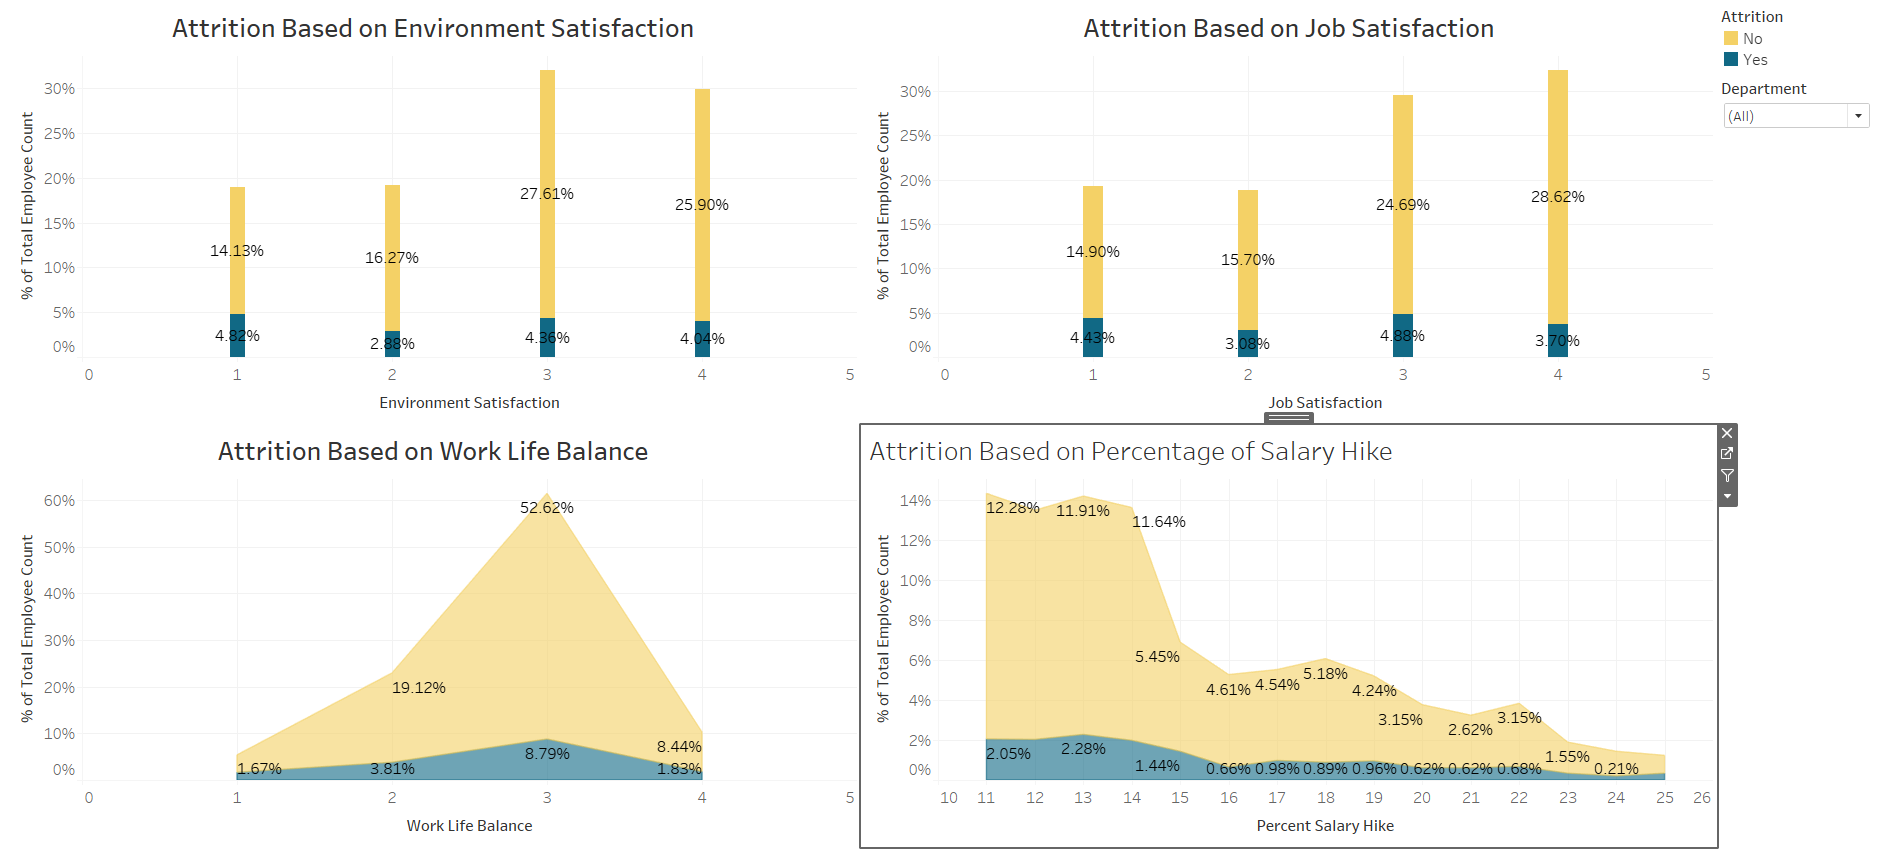

What the dashboard file says about the page in this screenshot:
{"tool":"tableau","page":{"name":"Dashboard 5","canvas":[1000,1000],"units":"permille","ordinal":4},"visuals":[{"type":"worksheet","title":"Sheet 27","mark":"Bar","rows":["EmployeeCount"],"cols":["EnvironmentSatisfaction"],"box":[4.8,9.3,446.9,490.7]},{"type":"worksheet","title":"Sheet 28","mark":"Bar","rows":["EmployeeCount"],"cols":["JobSatisfaction"],"box":[451.7,9.3,446.9,490.7]},{"type":"legend","title":"Sheet 27","param":"[federated.0j0eqzi1m7ro331365rb91to361o].[none:Attrition:nk]","box":[898.6,9.3,96.6,83.6]},{"type":"filter","title":"Sheet 29","param":"[federated.0j0eqzi1m7ro331365rb91to361o].[none:Department:nk]","box":[898.6,92.9,96.6,70.9]},{"type":"worksheet","title":"Sheet 29","mark":"Area","rows":["EmployeeCount"],"cols":["WorkLifeBalance"],"box":[4.8,500,446.9,490.7]},{"type":"worksheet","title":"Sheet 32","mark":"Area","rows":["EmployeeCount"],"cols":["PercentSalaryHike"],"box":[451.7,500,446.9,490.7]}]}

Visuals, with their boxes on the dashboard's canvas, which has no fixed pixel size, in thousandths of its width and height (x1, y1, x2, y2). These are canvas units, not pixel positions in the 1880x855 screenshot, which may show the page scaled, cropped or inside an application window:
"Sheet 27" worksheet (Bar marks): 5 9 452 500
"Sheet 28" worksheet (Bar marks): 452 9 899 500
"Sheet 27" legend: 899 9 995 93
"Sheet 29" filter: 899 93 995 164
"Sheet 29" worksheet (Area marks): 5 500 452 991
"Sheet 32" worksheet (Area marks): 452 500 899 991
